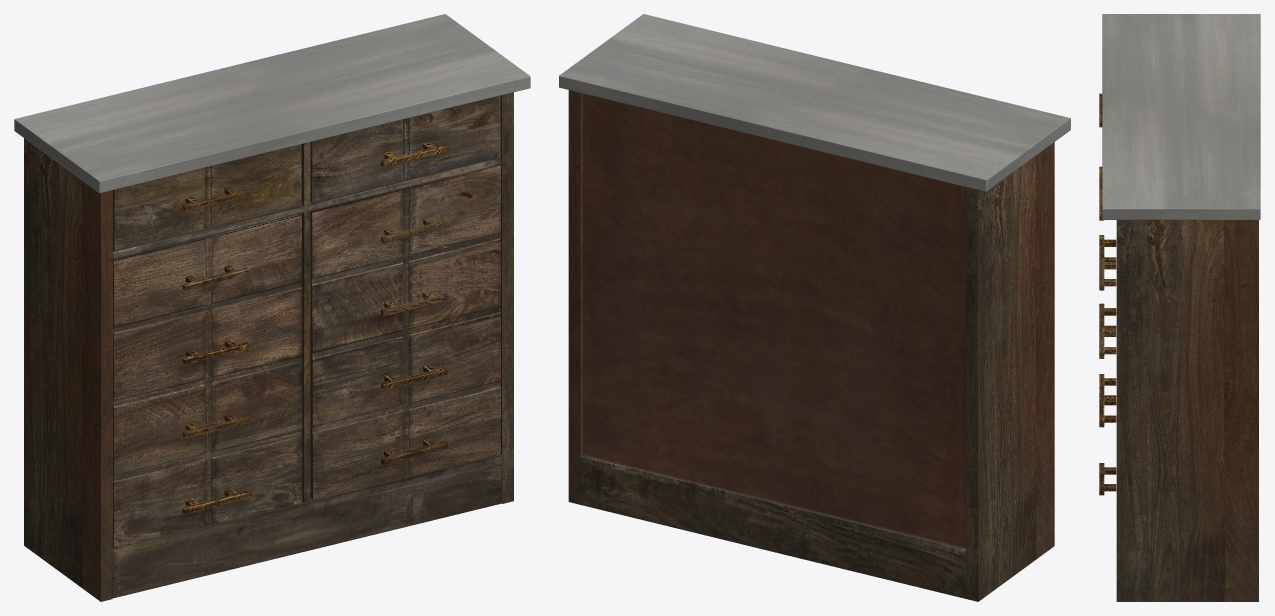
The model's file is cabinet_B07HSJY7CY.glb.
3 renders of one model, left to right at view 1: azimuth 30°, elevation 25°; view 2: azimuth 150°, elevation 25°; view 3: azimuth 270°, elevation 25°, orthographic. The views are drawn at different scales.
Parts seen in each view (by area): view 1: RootNode; view 2: RootNode; view 3: RootNode.
Boxes of the visible parts, box(x1,y1,x2,y2) form: RootNode: box(14, 14, 530, 601); RootNode: box(559, 14, 1070, 601); RootNode: box(1099, 14, 1260, 601).
Size of the model in its own units: 0.9679 by 0.9186 by 0.3379.
1 material, 1 textured.
